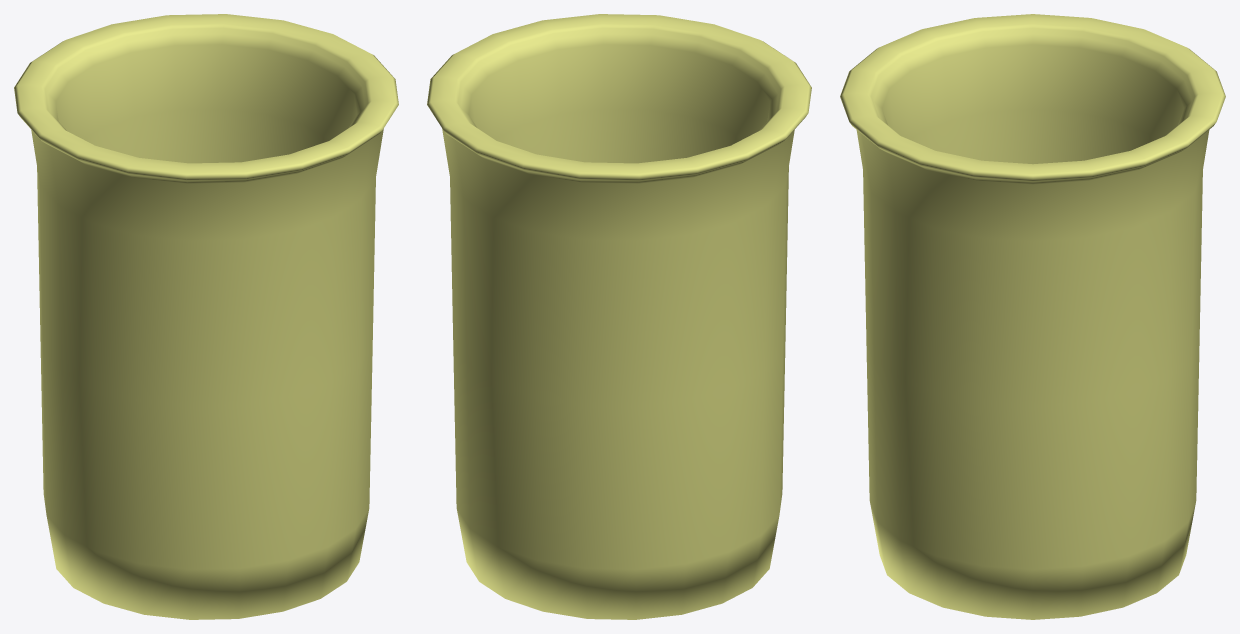
File: SWFluidReservoir.fbx
The picture shows the model from 3 angles, left to right: view 1: azimuth 30°, elevation 25°; view 2: azimuth 150°, elevation 25°; view 3: azimuth 270°, elevation 25°; orthographic projection.
Parts seen in each view (by area): view 1: pPipe1; view 2: pPipe1; view 3: pPipe1.
Part boxes in pixels (bbox=[...]): pPipe1: bbox=[14, 14, 398, 619]; pPipe1: bbox=[427, 14, 811, 619]; pPipe1: bbox=[840, 14, 1225, 619].
Bounding box in the file's own units: 2.2 × 2.91 × 2.2.
